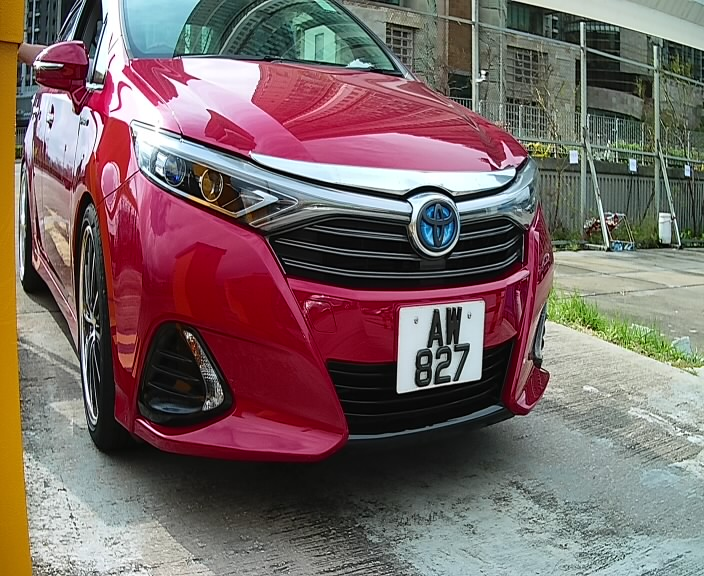License Plate: (390, 293, 488, 399)
